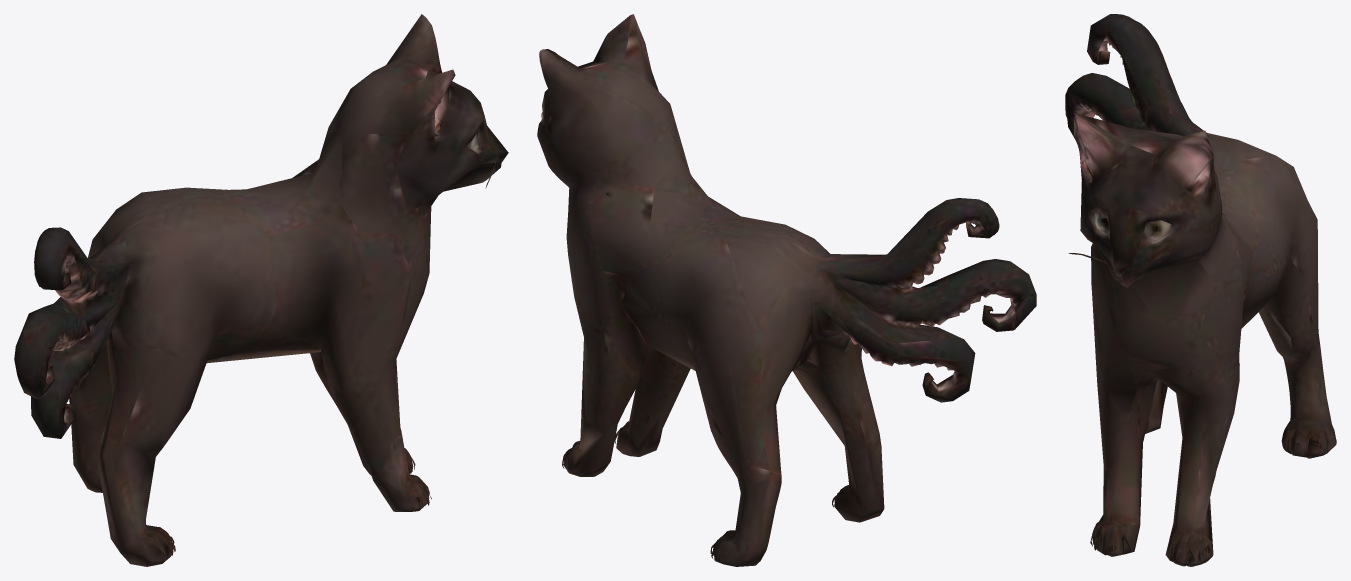
File: OCTOMONA-lo.glb
3 renders of one model, left to right at view 1: azimuth 30°, elevation 25°; view 2: azimuth 150°, elevation 25°; view 3: azimuth 270°, elevation 25°, orthographic. The views are drawn at different scales.
Parts seen in each view (by area): view 1: material; view 2: material; view 3: material.
Boxes of the visible parts, left/top/right/bottom form: material: left=14, top=14, right=508, bottom=566; material: left=537, top=14, right=1036, bottom=566; material: left=1065, top=14, right=1336, bottom=566.
Bounding box in the file's own units: 1.19 × 0.9998 × 0.5465.
Materials: 1 (1 with a texture image).
